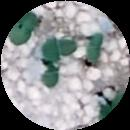Basil: (10, 12, 38, 47), (44, 39, 75, 60), (83, 34, 104, 65)
